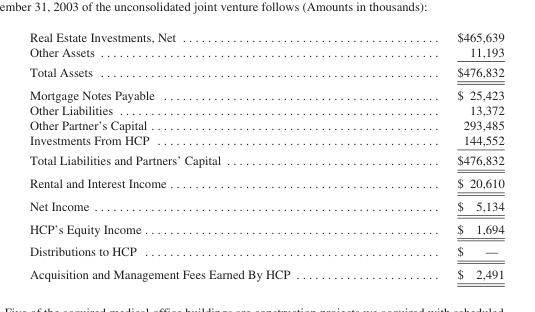table: (28, 29, 503, 280)
table column: (28, 29, 372, 280), (372, 29, 503, 280)
table row: (28, 171, 503, 194), (28, 216, 503, 239), (28, 239, 503, 262), (28, 61, 503, 83), (28, 194, 503, 216), (28, 150, 503, 171), (28, 83, 503, 102), (28, 43, 503, 61), (28, 132, 503, 150), (28, 262, 503, 280), (28, 102, 503, 117), (28, 117, 503, 132), (28, 29, 503, 43)
